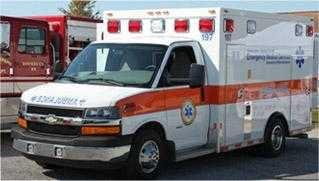car: (8, 6, 318, 178)
